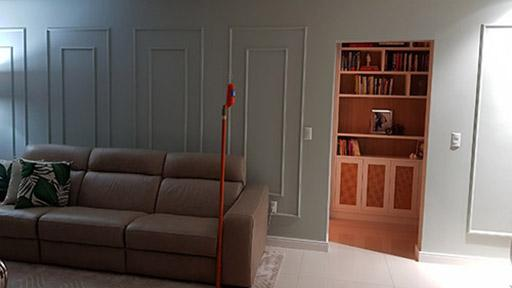Detector_Tensao_Contato: (224, 75, 236, 110)
Vara_Manobra: (217, 107, 227, 286)
